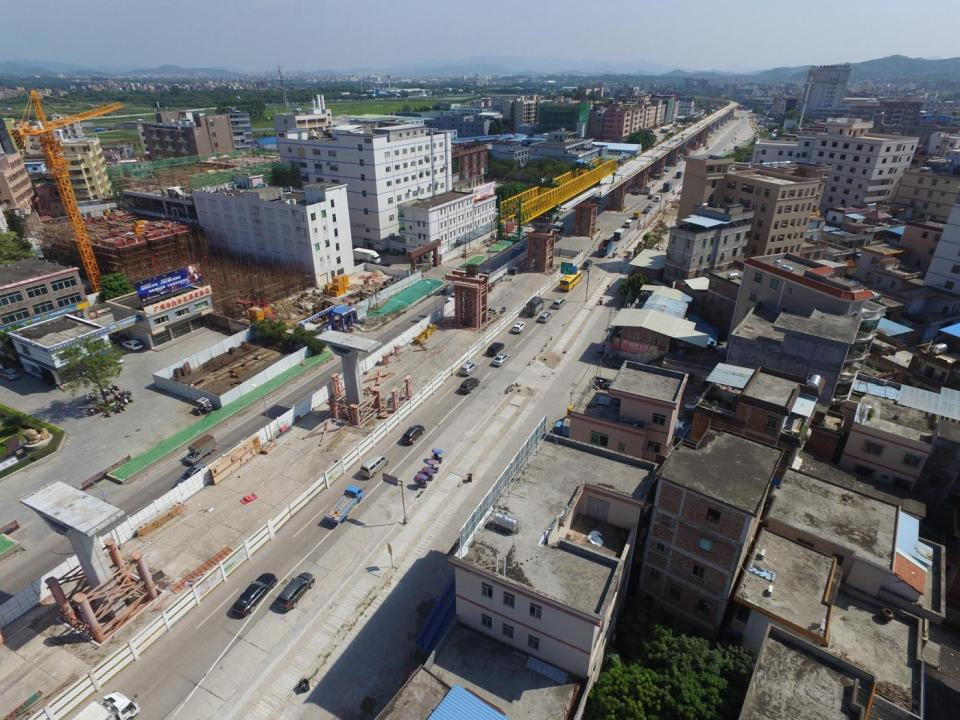bus: (559, 270, 583, 292)
car: (233, 572, 277, 616), (276, 571, 315, 611), (176, 463, 207, 487), (403, 424, 425, 445), (460, 378, 480, 393), (492, 352, 510, 367), (488, 342, 506, 357), (0, 368, 20, 381), (122, 340, 143, 352), (460, 362, 478, 376), (512, 322, 525, 335), (110, 335, 126, 345), (539, 311, 551, 324), (552, 298, 566, 309), (379, 262, 390, 267), (663, 166, 669, 172), (648, 194, 654, 200), (643, 208, 649, 214), (648, 204, 652, 208), (723, 148, 727, 151)
van: (71, 690, 140, 720), (323, 485, 365, 526), (554, 417, 597, 444), (184, 434, 216, 465), (360, 455, 388, 477), (352, 248, 382, 264), (526, 296, 545, 317), (599, 238, 613, 256), (196, 398, 213, 411), (614, 228, 623, 239), (664, 179, 672, 191), (625, 218, 632, 228), (584, 258, 590, 269), (633, 211, 640, 219), (676, 171, 682, 178), (654, 195, 661, 201)
